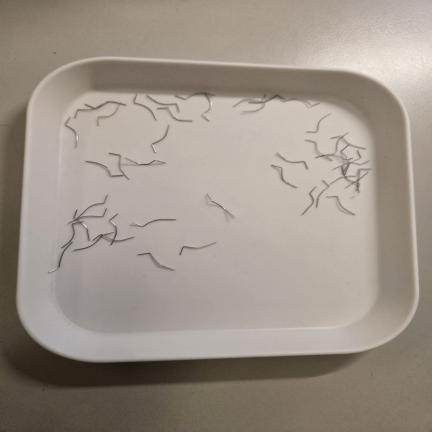probe: (137, 252, 175, 271), (207, 193, 235, 218), (271, 165, 297, 188), (326, 196, 355, 215), (179, 242, 217, 256), (276, 153, 308, 169), (306, 113, 331, 133), (151, 125, 169, 152), (64, 117, 78, 147), (302, 186, 316, 215), (132, 219, 176, 227)
